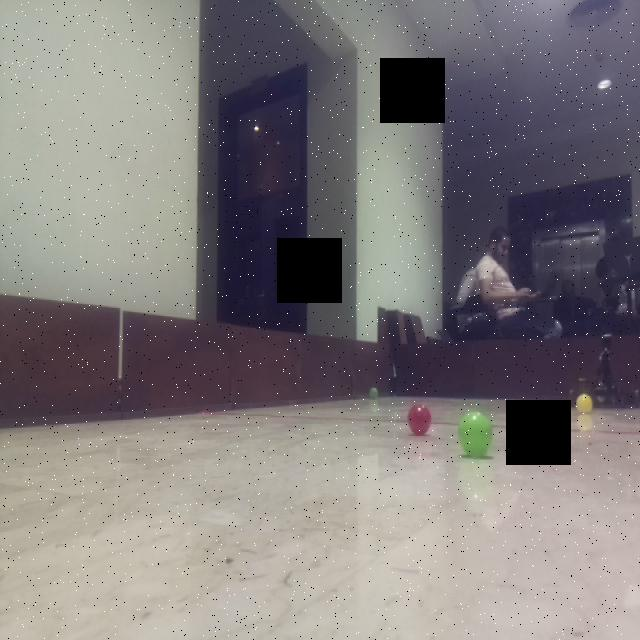ball: (456, 411, 497, 460), (405, 400, 435, 439), (571, 390, 596, 415), (366, 382, 382, 403)
